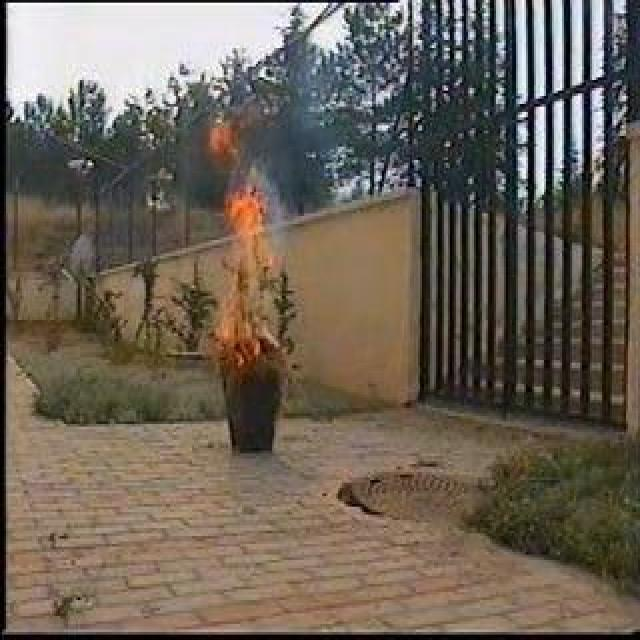fire: (197, 109, 267, 376)
